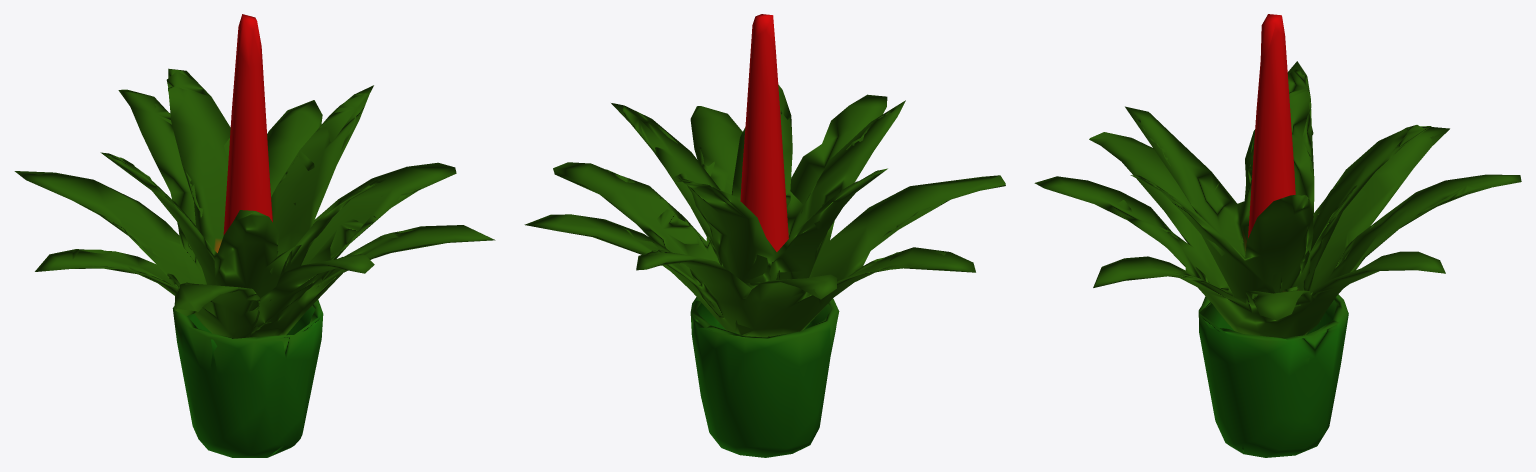
File: gen3d-bromeliad-lod0.glb
3 renders of one model, left to right at view 1: azimuth 30°, elevation 25°; view 2: azimuth 150°, elevation 25°; view 3: azimuth 270°, elevation 25°, orthographic.
Parts seen in each view (by area): view 1: part_0; view 2: part_0; view 3: part_0.
Boxes of the visible parts, left/top/right/bottom form: part_0: left=14, top=14, right=495, bottom=457; part_0: left=524, top=14, right=1005, bottom=457; part_0: left=1034, top=14, right=1521, bottom=457.
Bounding box in the file's own units: 1.04 × 0.9994 × 1.04.
